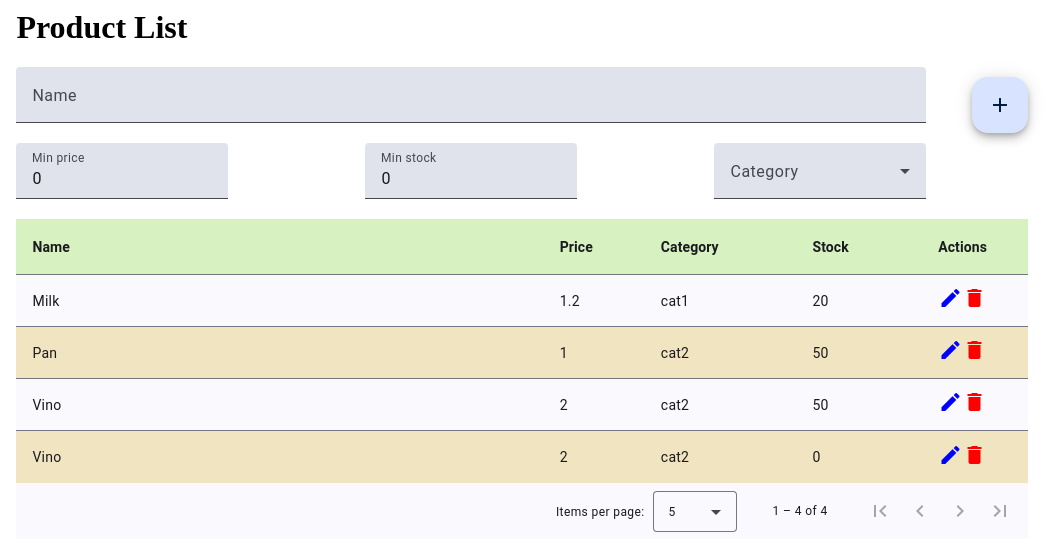
Test: template spec › Filter by name - not results
This screenshot has width=1051, height=549.
In the search field with id "filter_name": point(471, 103) [32,91,910,115], type "aaaaa"
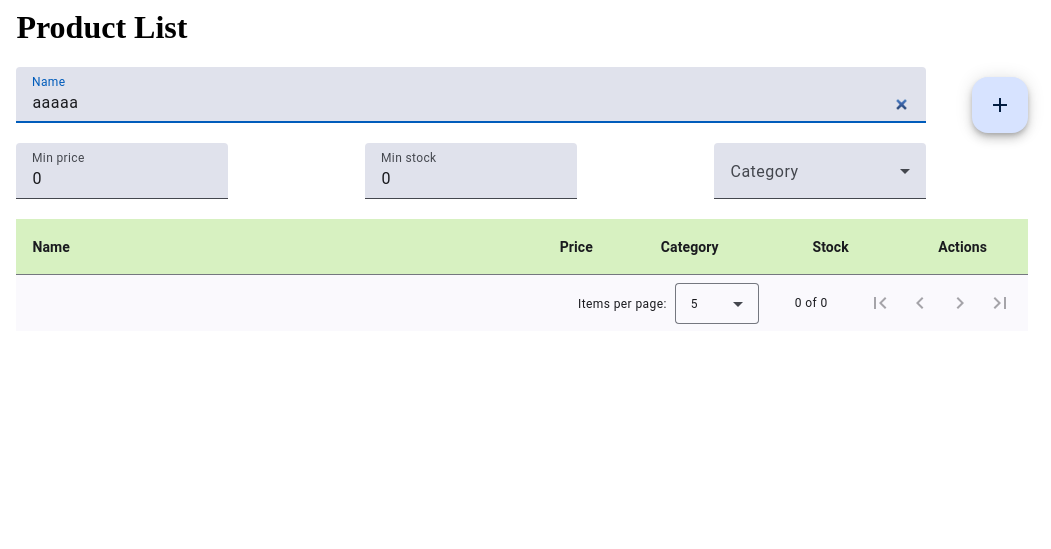
Expected: the text "0 of 0" is shown, [795,295,828,311]
